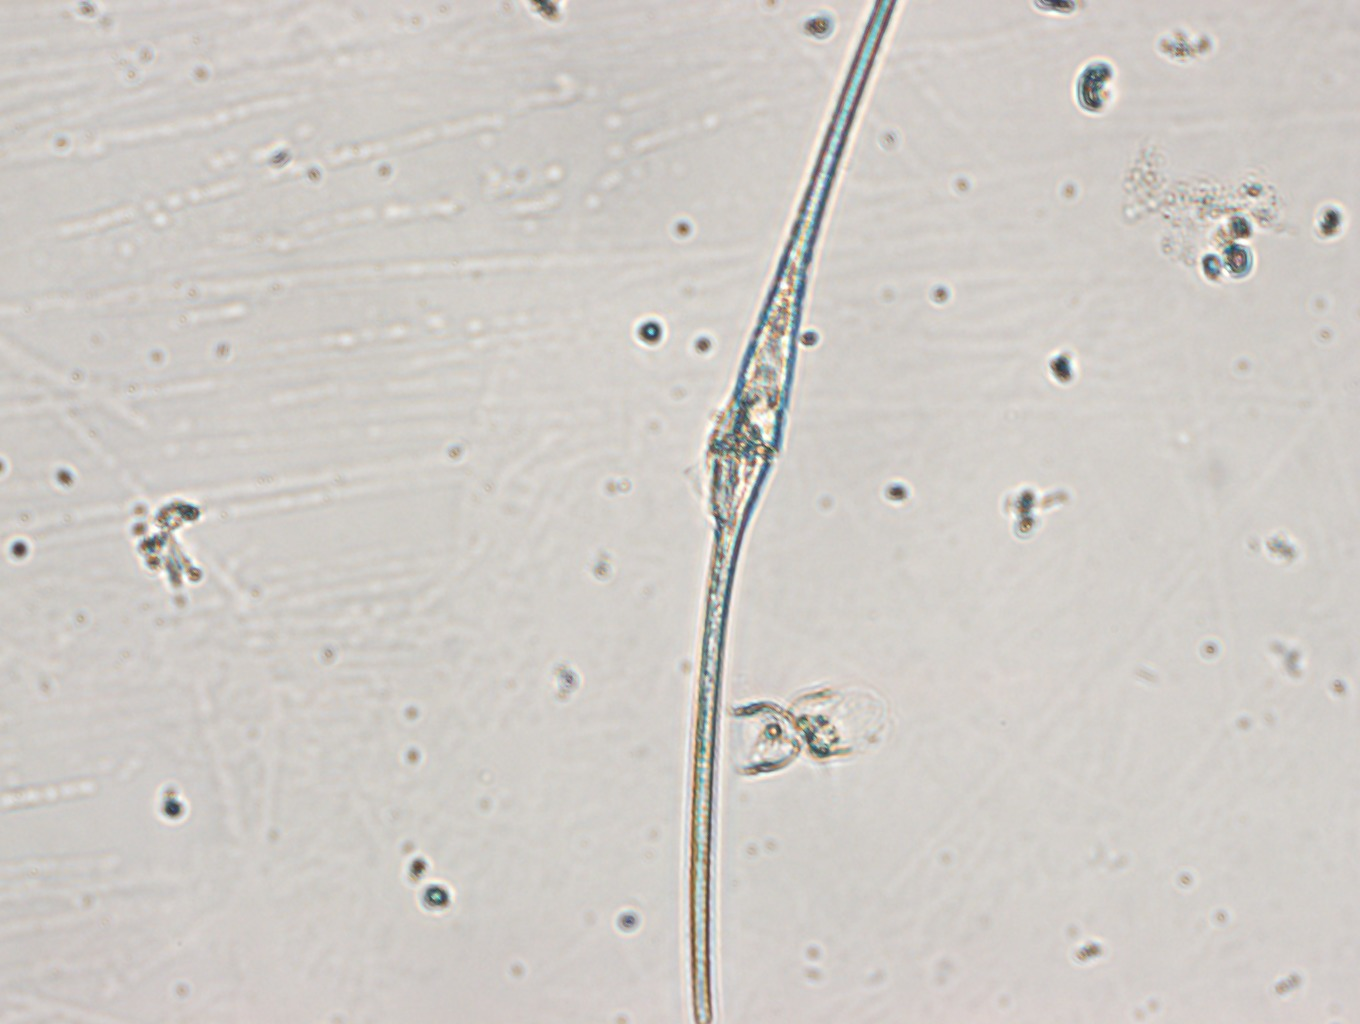ceratium fusus: (684, 1, 905, 1024)
